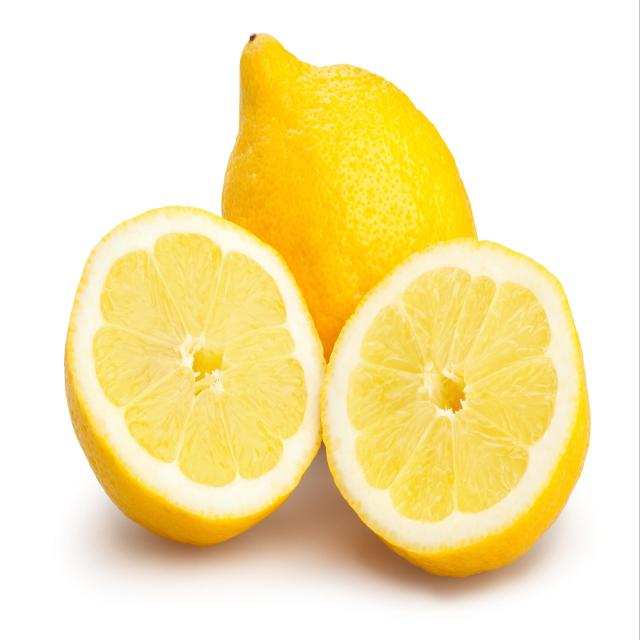lemon: (56, 198, 335, 554), (317, 230, 596, 585)
